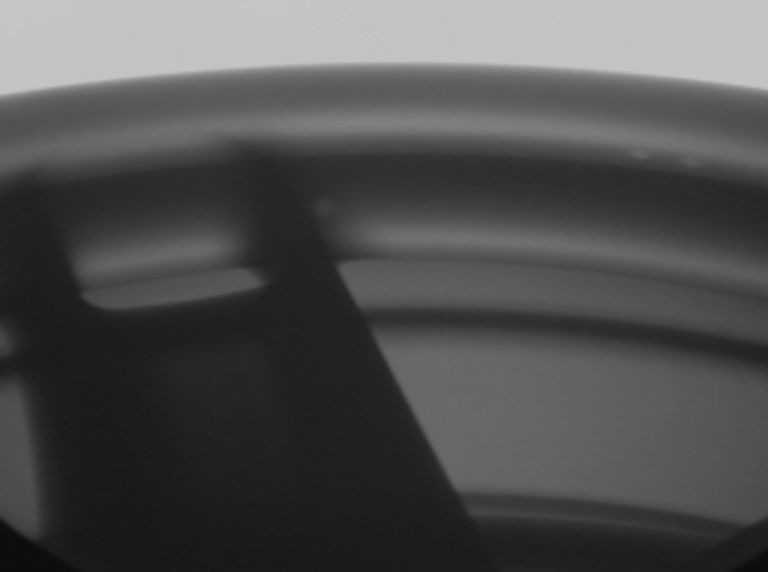defect: (297, 192, 360, 226)
